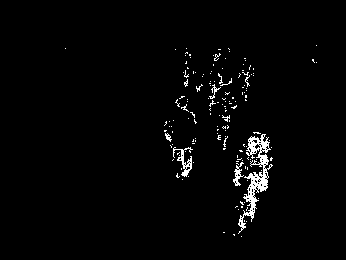person: (235, 130, 273, 234), (164, 96, 197, 178), (208, 77, 238, 150)
